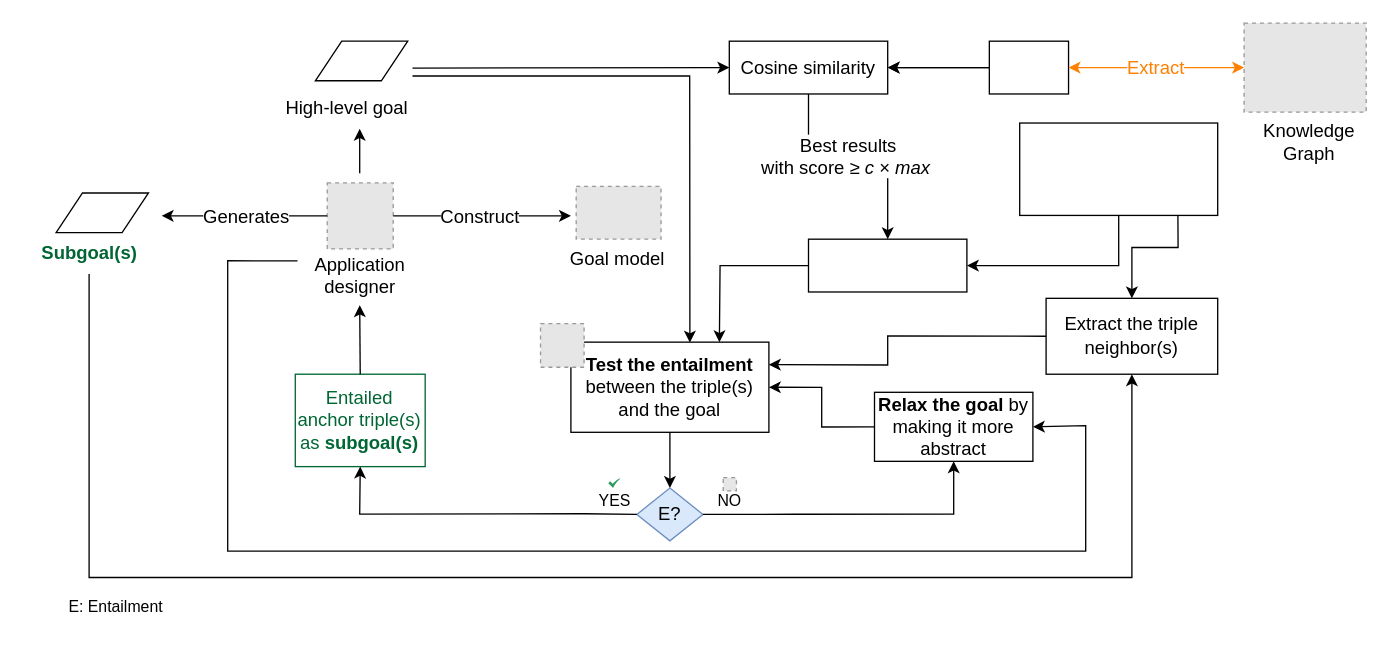
Image size: 1391x667. Some labels were removed from this diagram. Grey dashed boxes stand in for pictures. The shapes that lost their labels are listed below. From the top down, each one's box as (x1, y1, x2, y2) in pixels, then its label:
(988, 40, 1069, 94): Triples
(1018, 122, 1218, 215): Applying sentiment analysis for identifying negatives connotations in triples
(807, 238, 967, 292): Triples as anchor triple(s)
